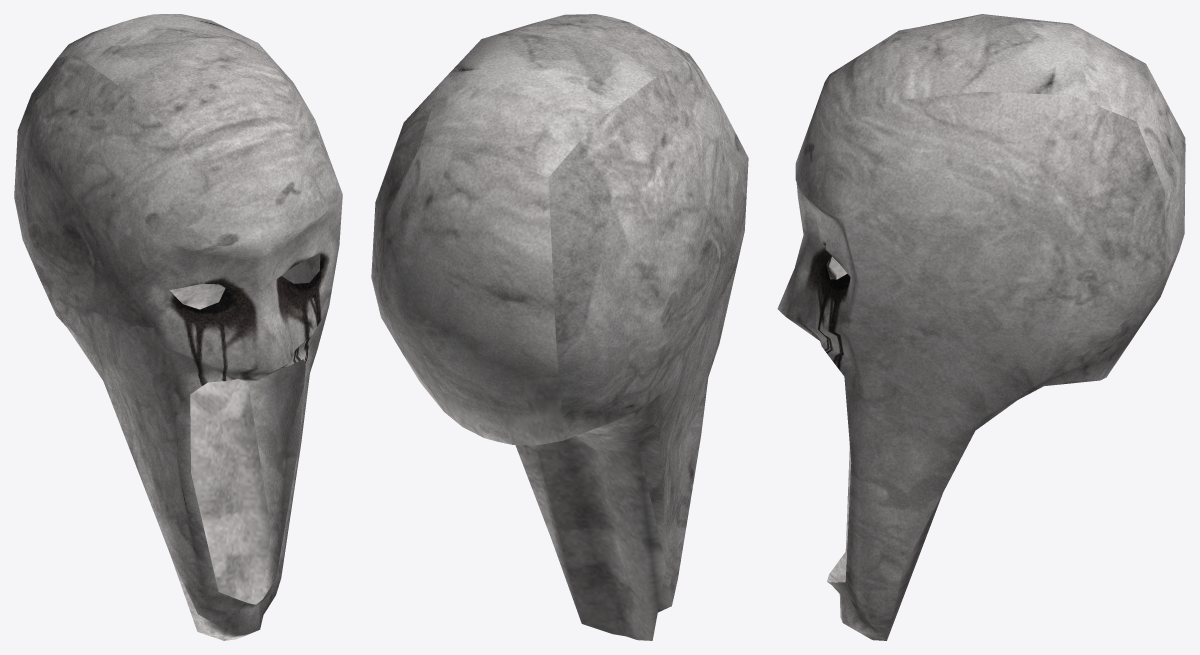
The model's file is ghost_face_02_gm.fbx.
3 renders of one model, left to right at view 1: azimuth 30°, elevation 25°; view 2: azimuth 150°, elevation 25°; view 3: azimuth 270°, elevation 25°, orthographic. The views are drawn at different scales.
Parts seen in each view (by area): view 1: pCube7; view 2: pCube7; view 3: pCube7.
Part boxes in pixels (x1,y1,x2,y2): pCube7: (14, 14, 342, 640); pCube7: (371, 14, 748, 640); pCube7: (777, 14, 1185, 640).
Bounding box in the file's own units: 4.48 × 9.95 × 6.12.
